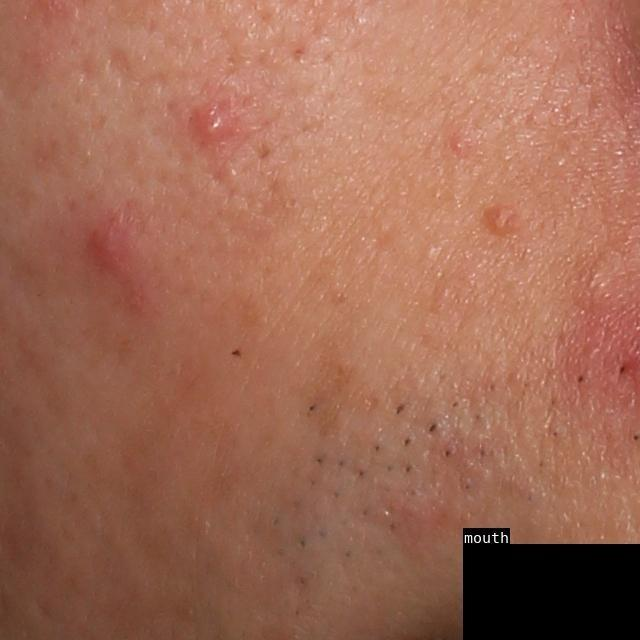atrophic_scar: (108, 48, 171, 91)
papule: (84, 208, 149, 277), (187, 98, 241, 147), (481, 202, 518, 237), (448, 130, 472, 155)
